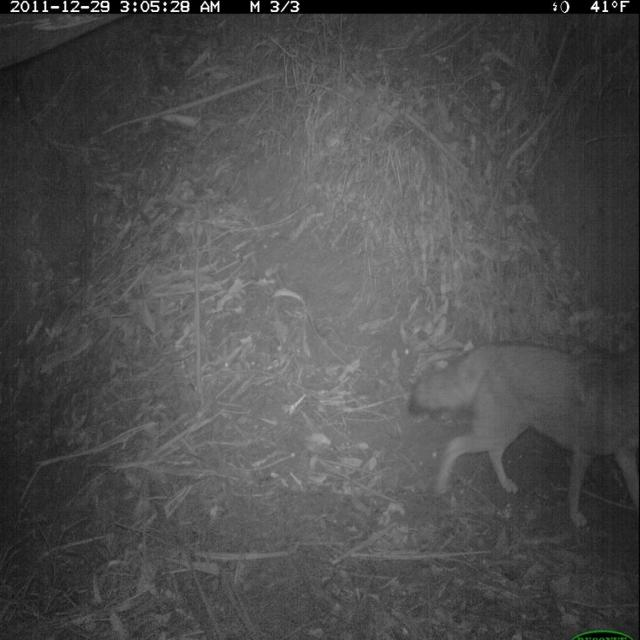coyote: (397, 315, 640, 538)
